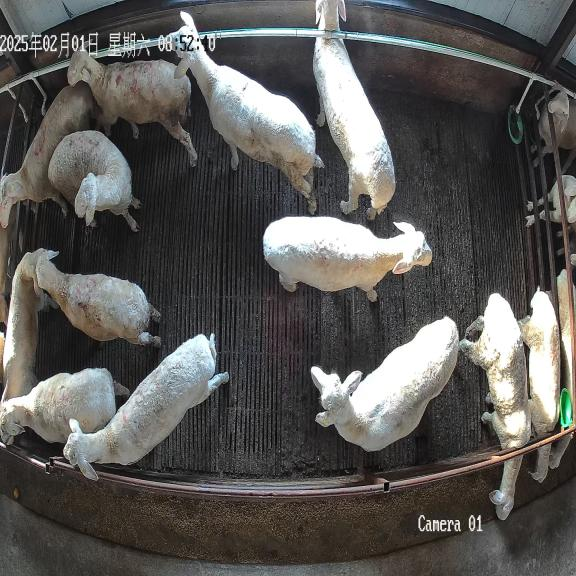eating: (459, 293, 531, 520), (518, 287, 560, 482)
stand: (167, 11, 324, 214), (64, 333, 228, 480), (311, 317, 459, 451), (313, 0, 396, 221), (68, 51, 197, 166), (0, 81, 101, 225), (263, 216, 432, 301), (35, 250, 161, 346), (0, 248, 59, 444), (0, 369, 129, 445), (49, 130, 141, 231)
